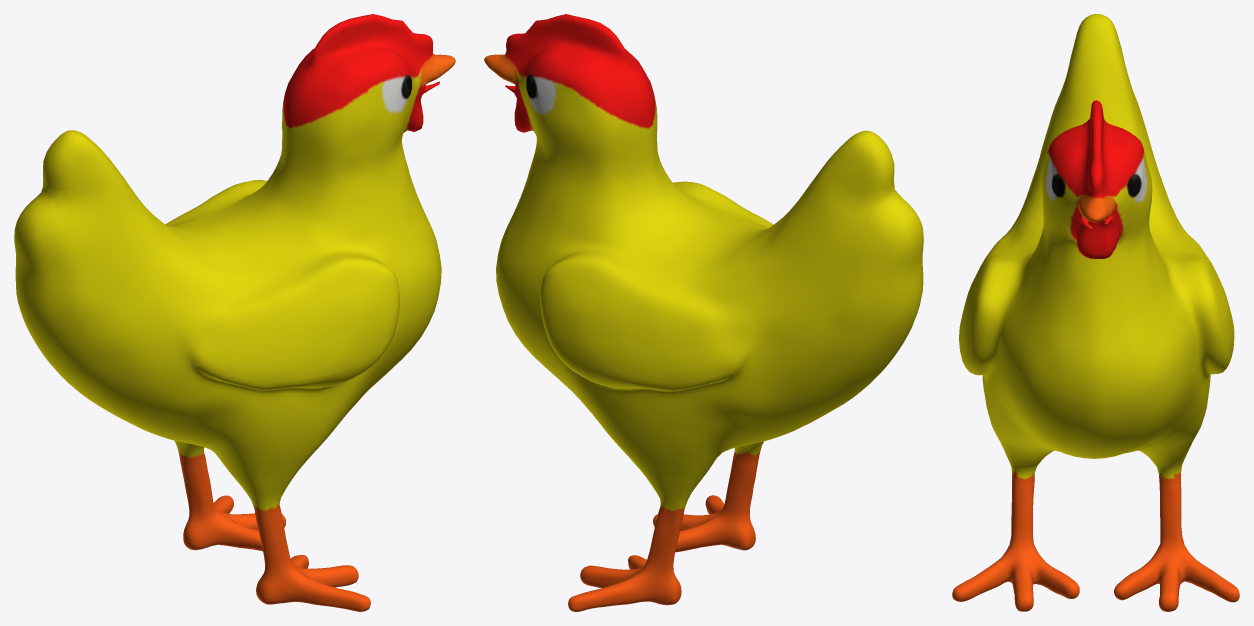
File: chicken.glb
3 renders of one model, left to right at view 1: azimuth 30°, elevation 25°; view 2: azimuth 150°, elevation 25°; view 3: azimuth 270°, elevation 25°, orthographic.
Parts seen in each view (by area): view 1: Mesh; view 2: Mesh; view 3: Mesh.
Boxes of the visible parts, box(x1,y1,x2,y2) form: Mesh: box(14, 14, 455, 611); Mesh: box(484, 14, 923, 611); Mesh: box(952, 14, 1239, 611).
Bounding box in the file's own units: 0.7325 × 0.8516 × 0.4243.
1 material, 1 textured.
